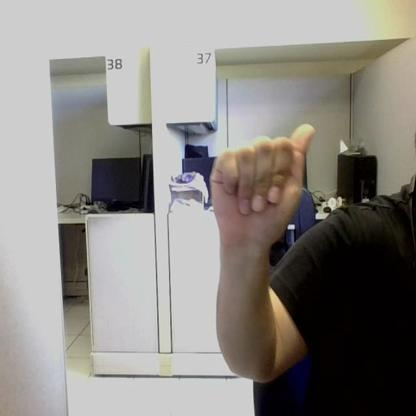A: (211, 124, 314, 242)
